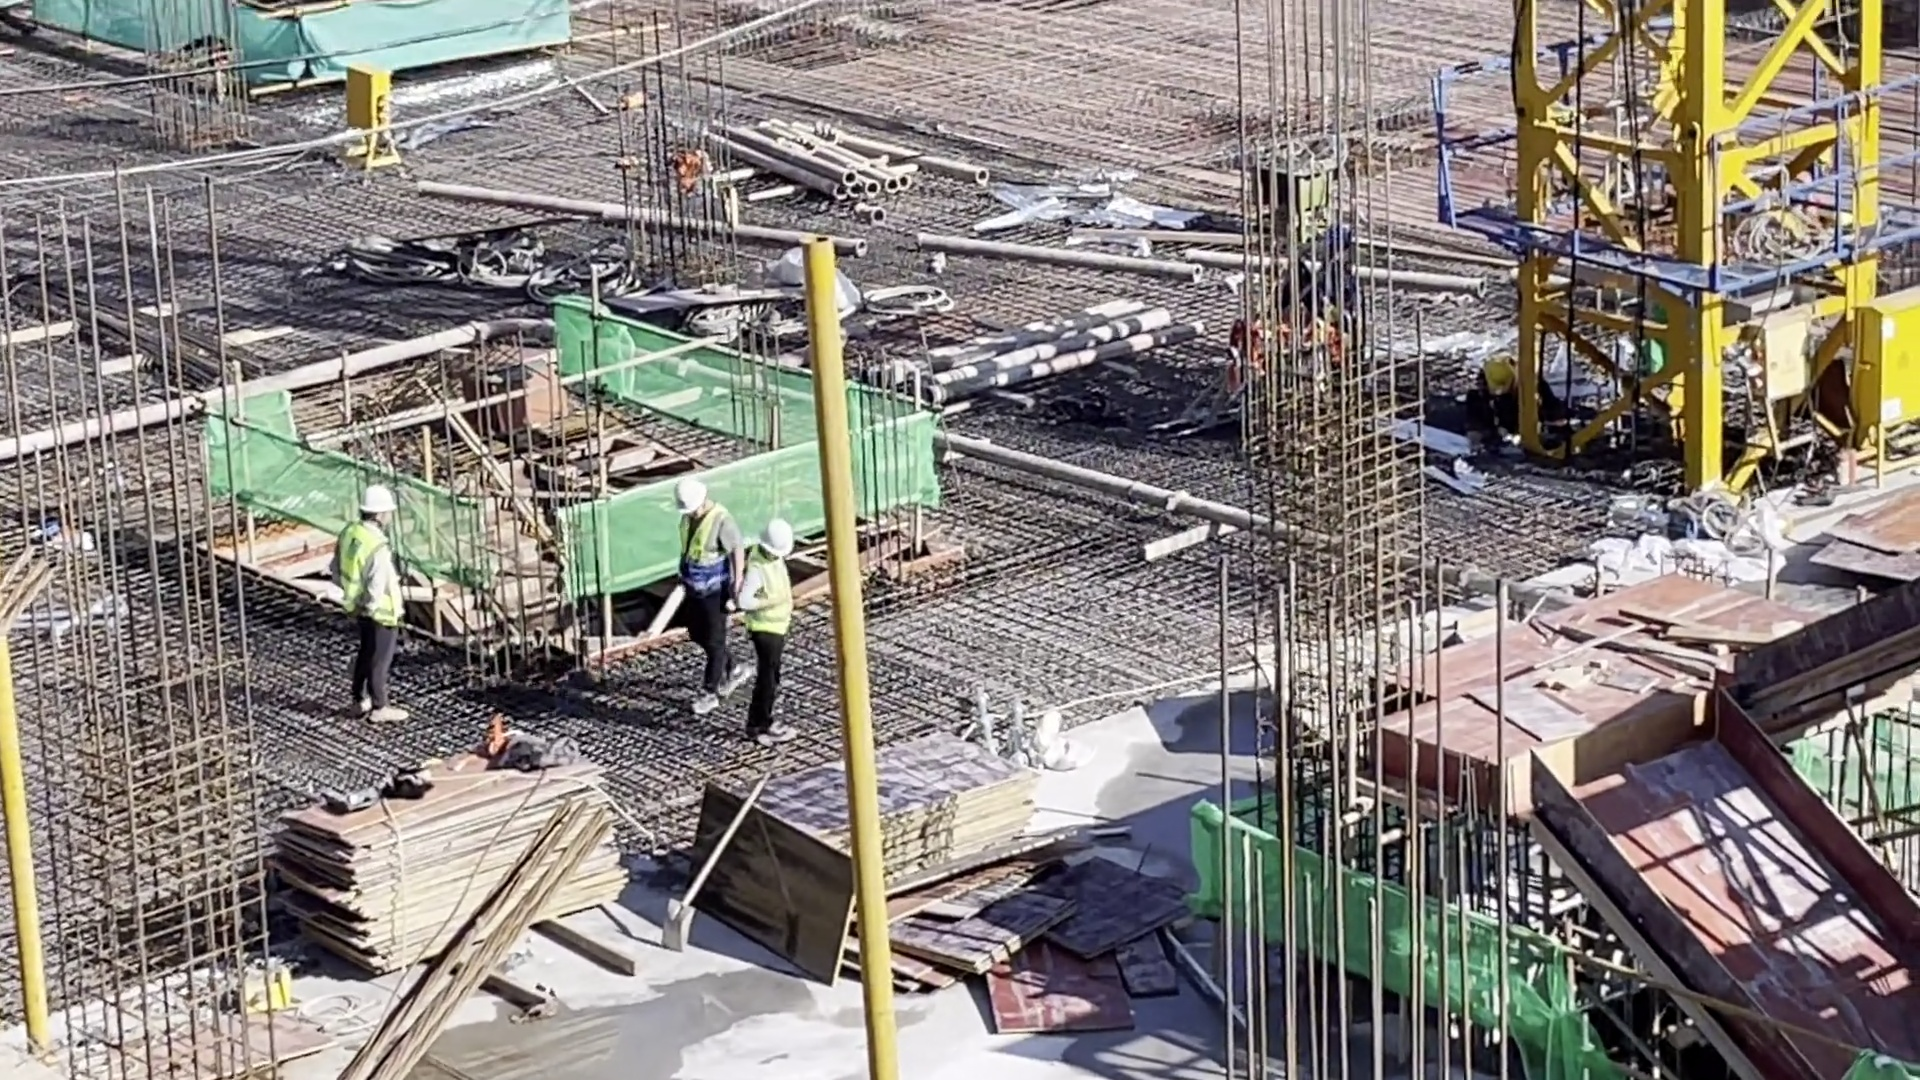board: (262, 740, 629, 983), (709, 731, 1048, 903)
ebox: (1855, 287, 1920, 476), (344, 63, 404, 184)
helmet: (1485, 354, 1515, 401), (673, 479, 707, 519), (757, 520, 792, 556), (355, 490, 396, 519)
person: (337, 487, 411, 722), (671, 478, 744, 716), (744, 517, 799, 748), (1476, 351, 1561, 434)
vest: (341, 523, 409, 625), (683, 512, 731, 598), (750, 557, 795, 639)
